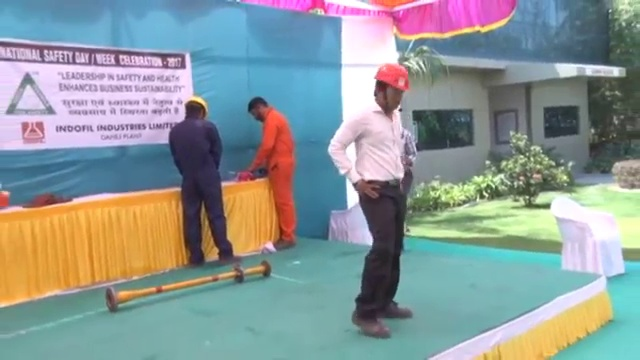helmet: (374, 62, 412, 91), (185, 94, 210, 116)
helmet_off: (245, 93, 271, 125)
helmet_on: (371, 58, 413, 118), (182, 93, 211, 123)
person: (329, 57, 414, 338), (169, 95, 244, 265), (246, 94, 297, 251), (397, 116, 418, 251)
